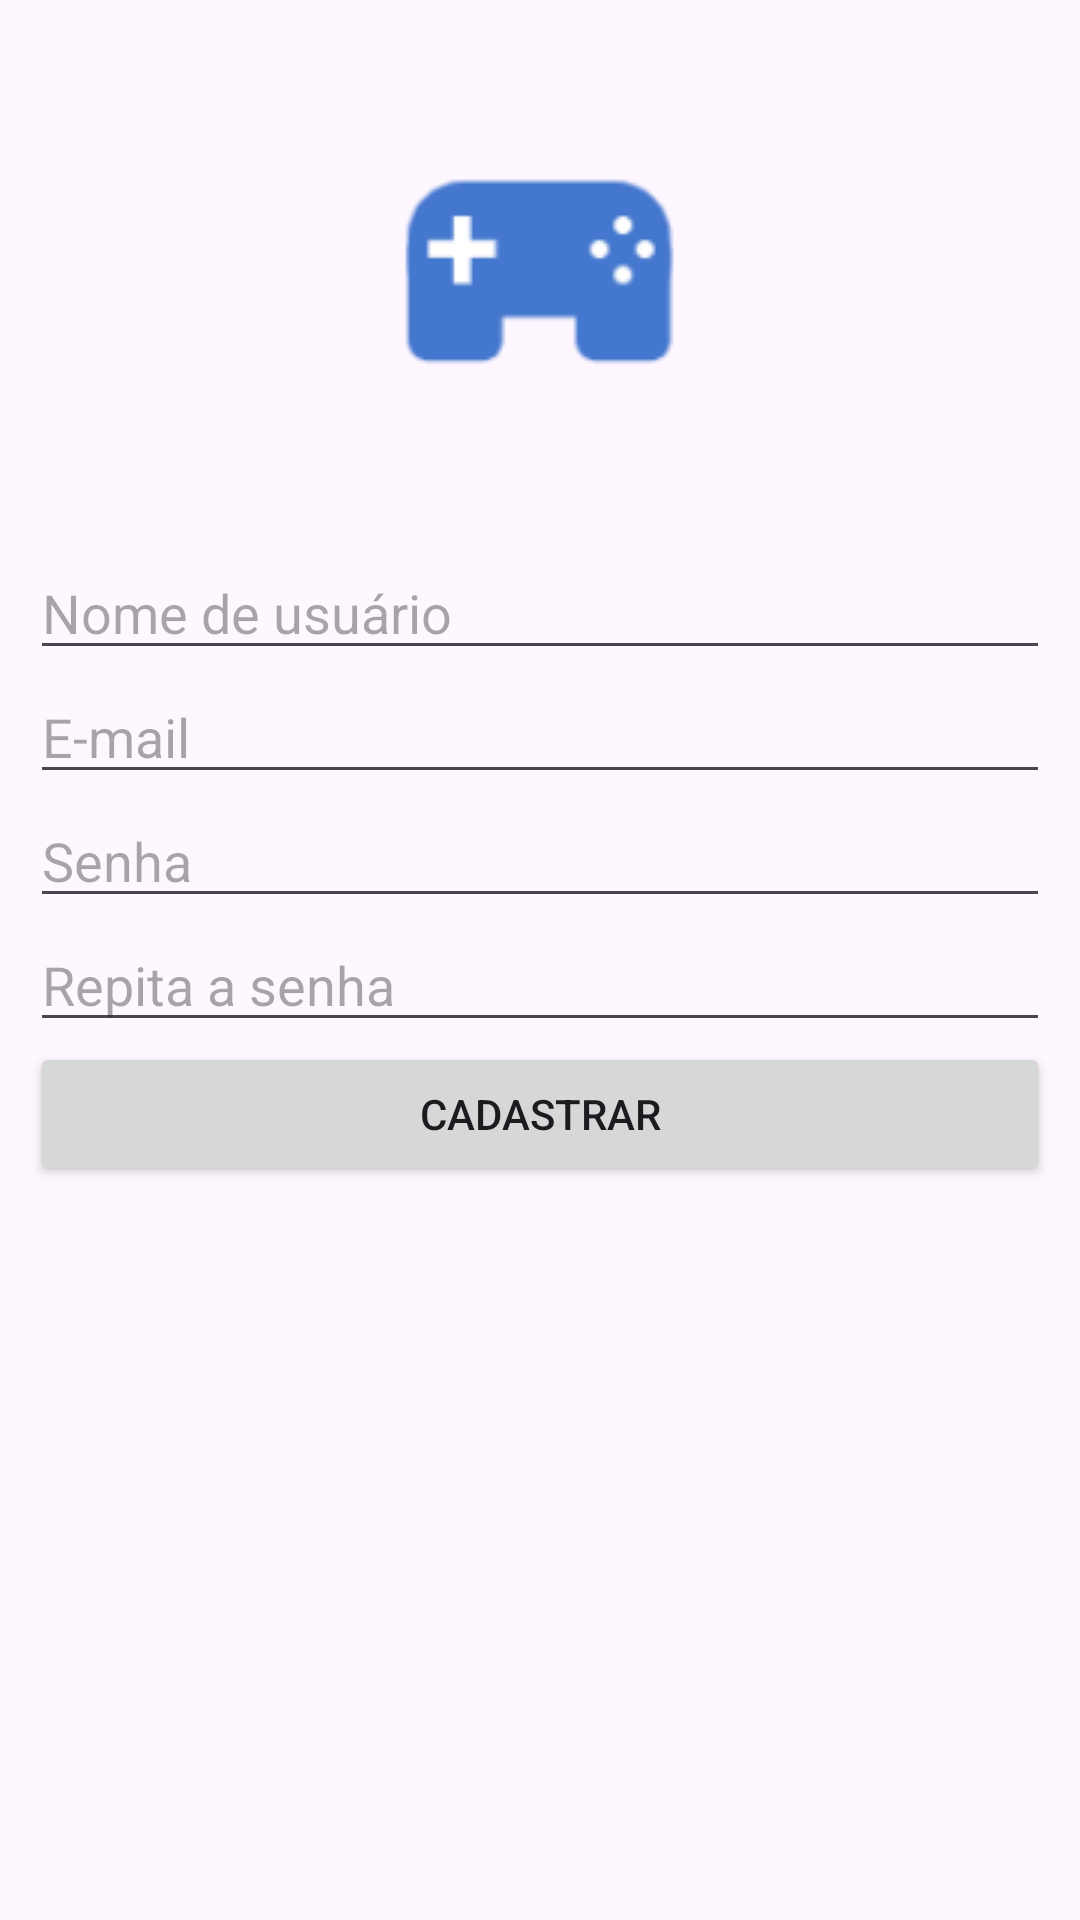

Named icons in this screenshot (1080w x 1920h) and their bounding boxes, (x1, y1, x2, y2):
Icone do app: (405, 179, 674, 363)
